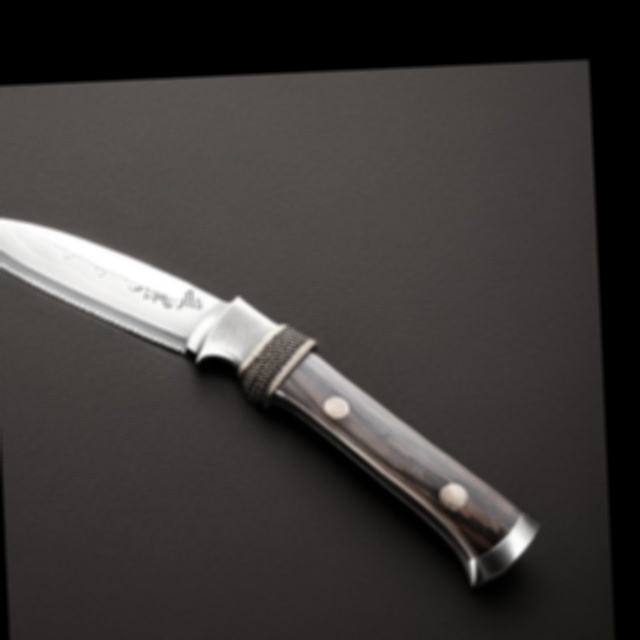Sharp-Object: (0, 107, 594, 640)
